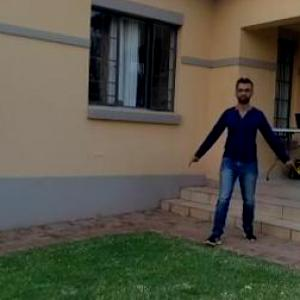land: (187, 83, 290, 248)
